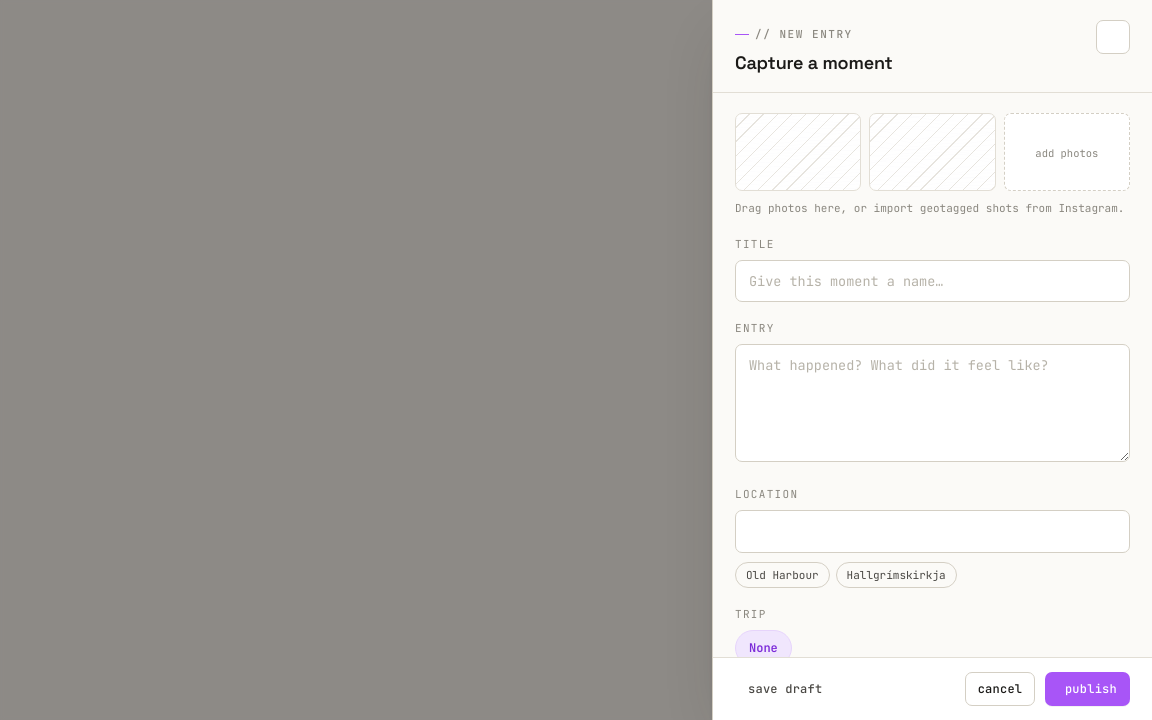
Test case: AppNewEntry › updates location when a suggestion chip is clicked
Click the text with class "chip" showing "Old Harbour" at (782, 575), box [735,562,830,588]
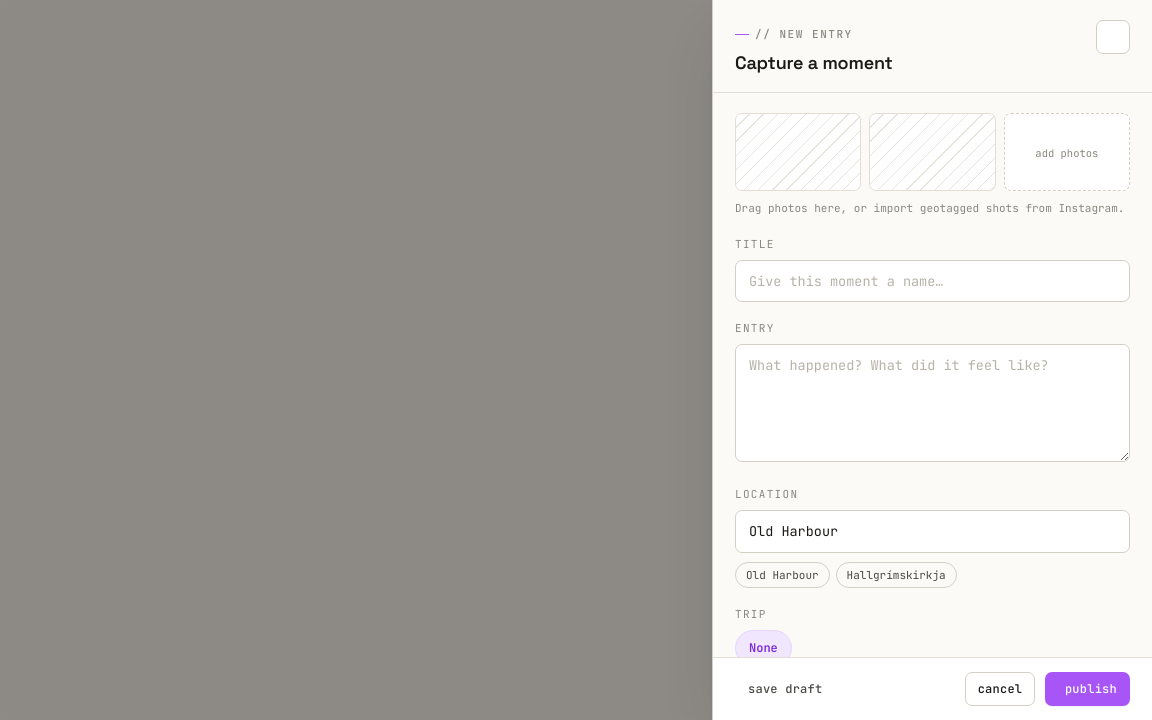
Check: the field with class "field__input" holds "Old Harbour", box [735,510,1130,553]
